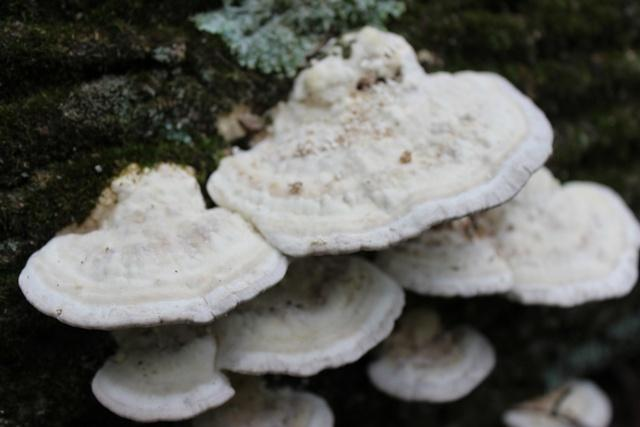Non-edible Mushroom: (16, 34, 640, 422)
